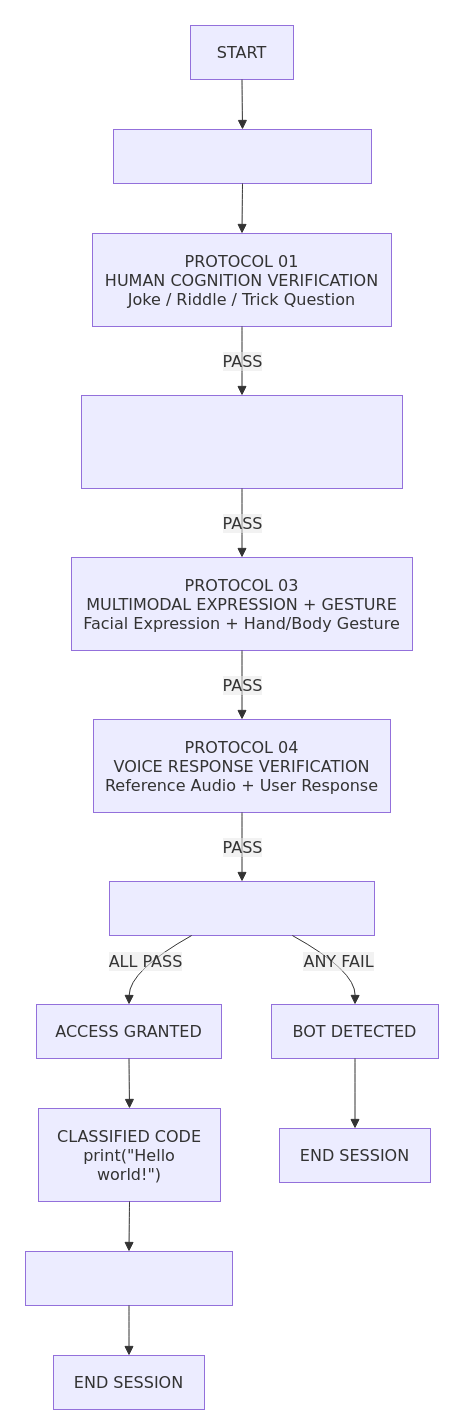
Image size: 456x1427. Some labels were removed from this diagram. The shapes that lost their labels are listed below. From the top down, each one's centre as x and y in pixels, then its label:
[242,156]: INITIAL SECURITY TERMINAL
[241,441]: PROTOCOL 02 BEHAVIOURAL TYPING ANALYSIS Keystroke Timing + Typing Behaviour
[241,908]: FINAL SECURITY ASSESSMENT
[128,1278]: FINAL TRANSMISSION
